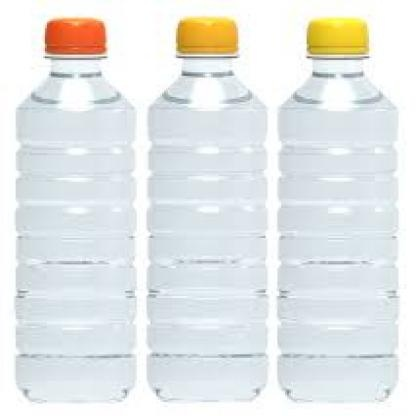trash: (17, 17, 267, 399), (278, 17, 397, 400), (279, 18, 397, 400), (16, 18, 133, 400), (149, 17, 266, 399)
